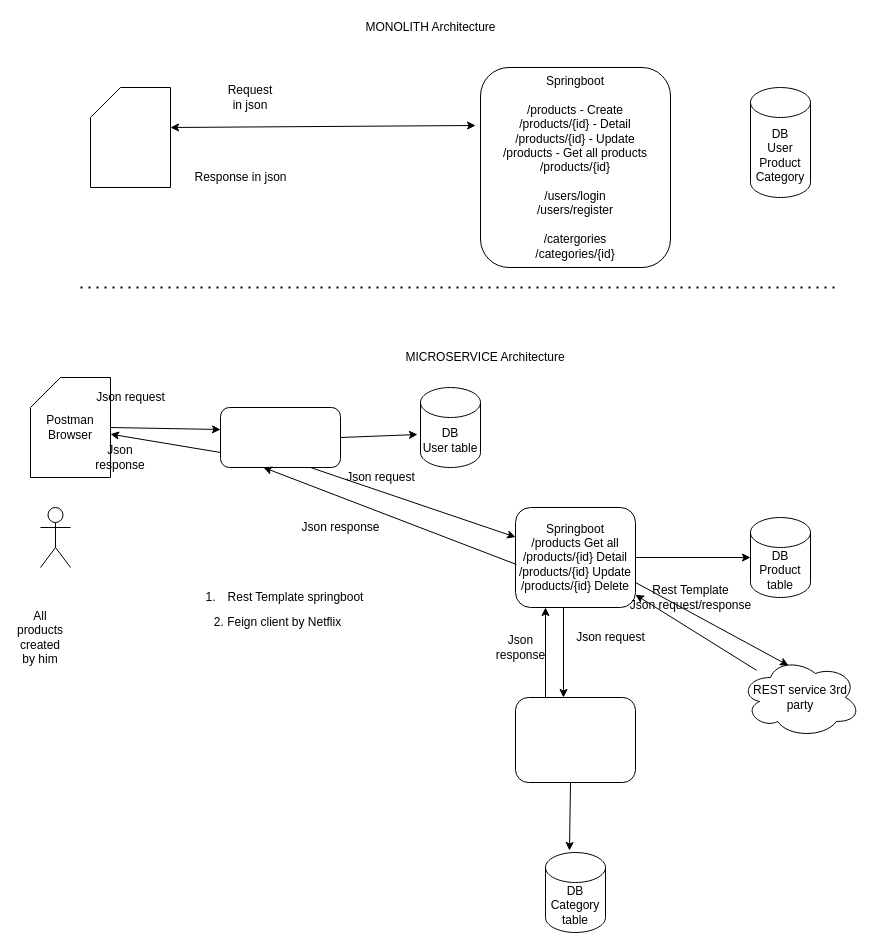
The diagram is 878 pixels wide and 950 high, and some of its shapes have lost their labels. Here are the shapes that lost their labels. From the top down, the centre of each, then its label:
At (x=130, y=137): "Postman Swagger ui Browser".
At (x=280, y=437): "Springboot /users/login /users/register".
At (x=55, y=537): "User".
At (x=575, y=739): "Springboot /categories Get /categories/{id}".
